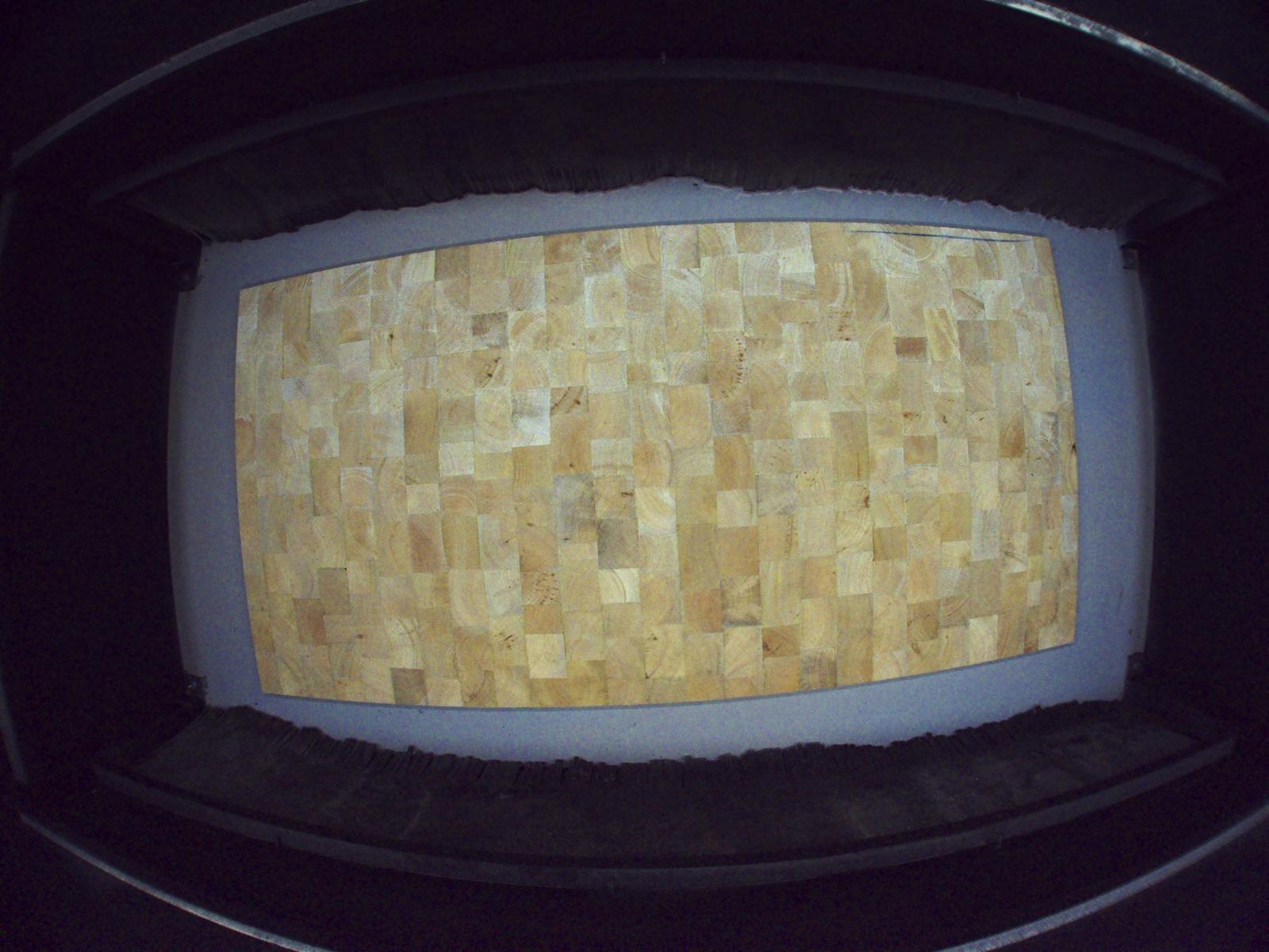nudillo: (1069, 441, 1077, 454)
